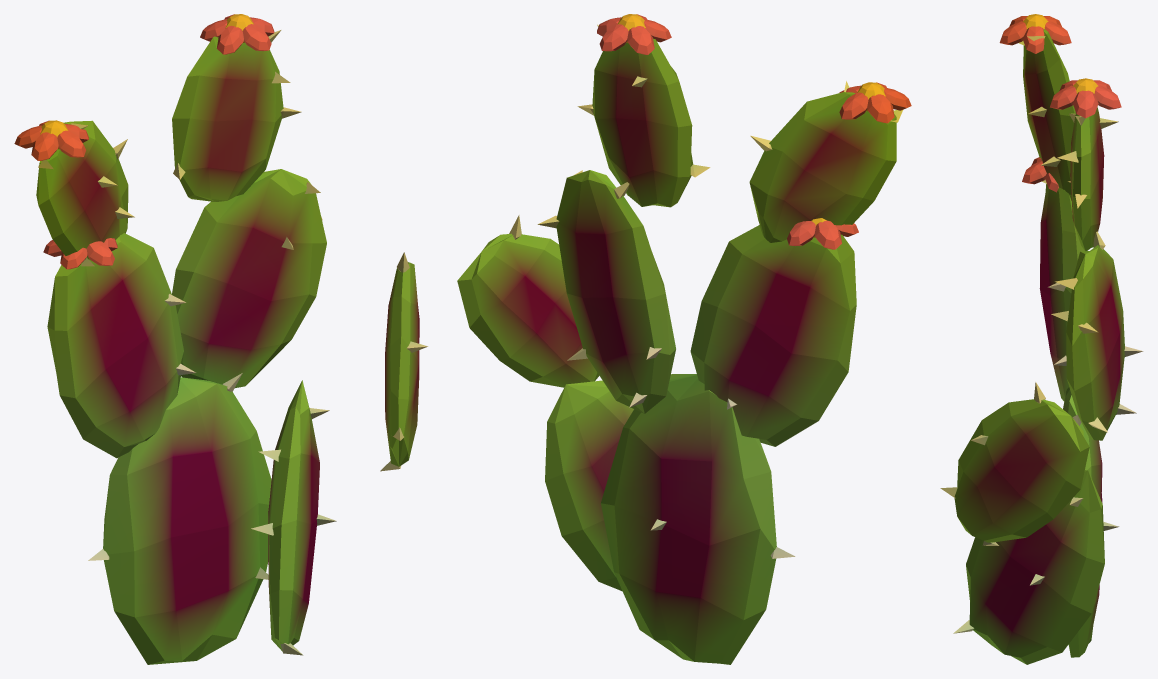
The model's file is Cactus_Prickly_01.glb.
The picture shows the model from 3 angles, left to right: view 1: azimuth 30°, elevation 25°; view 2: azimuth 150°, elevation 25°; view 3: azimuth 270°, elevation 25°; orthographic projection. The views are drawn at different scales.
Visible parts, largest first — view 1: Cactus_Prickly_01; view 2: Cactus_Prickly_01; view 3: Cactus_Prickly_01.
Boxes of the visible parts, <box> form: Cactus_Prickly_01: <box>14,14,428,664</box>; Cactus_Prickly_01: <box>457,14,911,664</box>; Cactus_Prickly_01: <box>940,14,1143,664</box>.
Bounding box in the file's own units: 1.07 × 1.56 × 0.4809.
